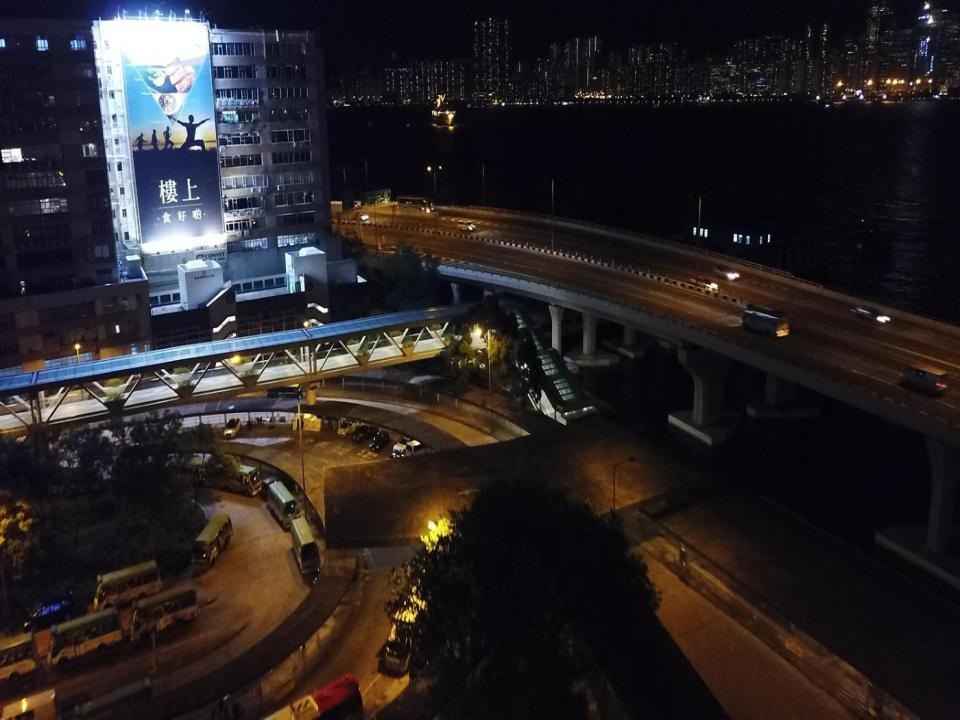bus: (53, 660, 153, 719), (235, 674, 364, 719), (47, 606, 123, 665), (93, 558, 162, 612), (132, 584, 198, 639), (192, 511, 232, 570), (0, 630, 40, 682), (290, 517, 319, 576), (213, 462, 262, 496), (267, 481, 300, 530), (742, 304, 789, 336), (168, 458, 211, 485), (397, 195, 433, 213), (266, 383, 303, 399)
car: (852, 305, 888, 322), (393, 432, 423, 452), (390, 451, 412, 472), (370, 430, 390, 453), (338, 417, 358, 437), (689, 276, 717, 290), (312, 569, 328, 593), (224, 416, 241, 438), (353, 213, 368, 220), (348, 201, 359, 207)
truck: (383, 580, 432, 672), (0, 688, 57, 719)
van: (23, 588, 76, 632), (901, 364, 947, 395), (406, 436, 440, 459), (352, 420, 378, 442), (714, 264, 738, 280), (458, 219, 476, 231)
